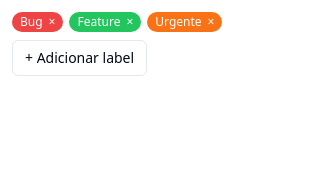
it: TaskLabels › shows message when all workspace labels are already applied
Click the button "+ Adicionar label" at (80, 58), box [12, 40, 147, 76]
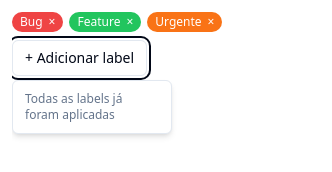
Expected: the text "Todas as labels já foram aplicadas" is shown, [25, 90, 122, 123]
